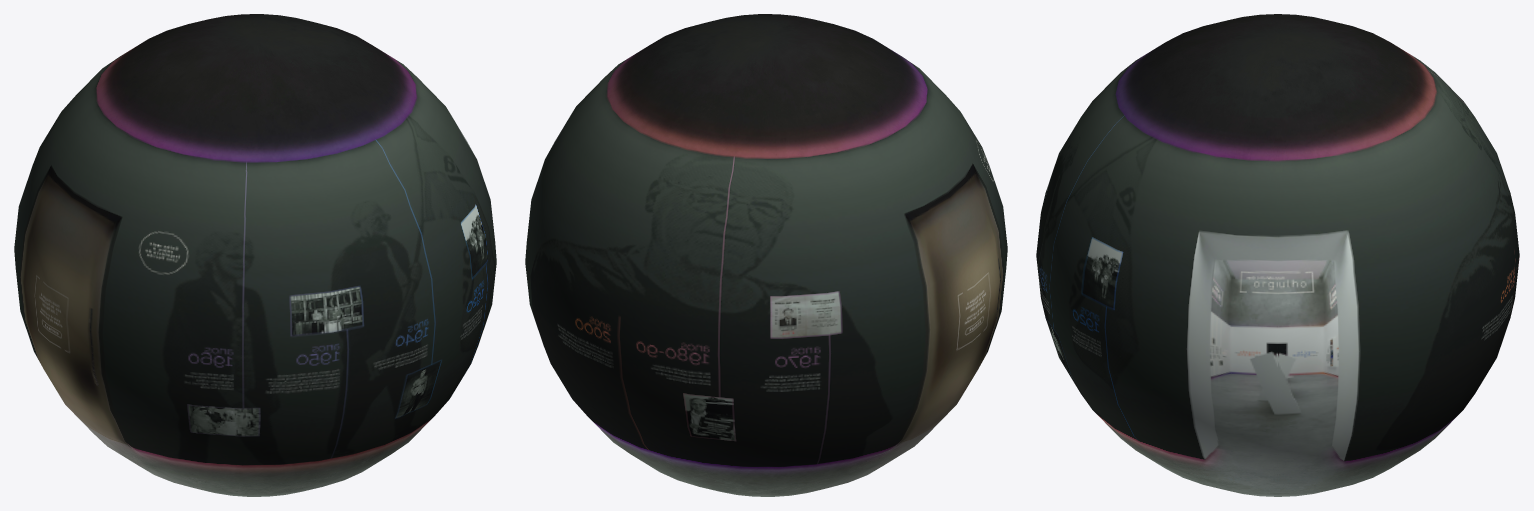
Rendered from camera_07.glb.
3 views of the same model, side by side, from view 1: azimuth 30°, elevation 25°; view 2: azimuth 150°, elevation 25°; view 3: azimuth 270°, elevation 25° (orthographic).
Parts seen in each view (by area): view 1: Sphere; view 2: Sphere; view 3: Sphere.
Boxes of the visible parts, box(x1,y1,x2,y2) form: Sphere: box(14, 14, 496, 496); Sphere: box(525, 14, 1007, 496); Sphere: box(1036, 14, 1519, 496).
Size of the model in its own units: 21.96 by 21.96 by 21.96.
Materials: 3 (1 with a texture image).
